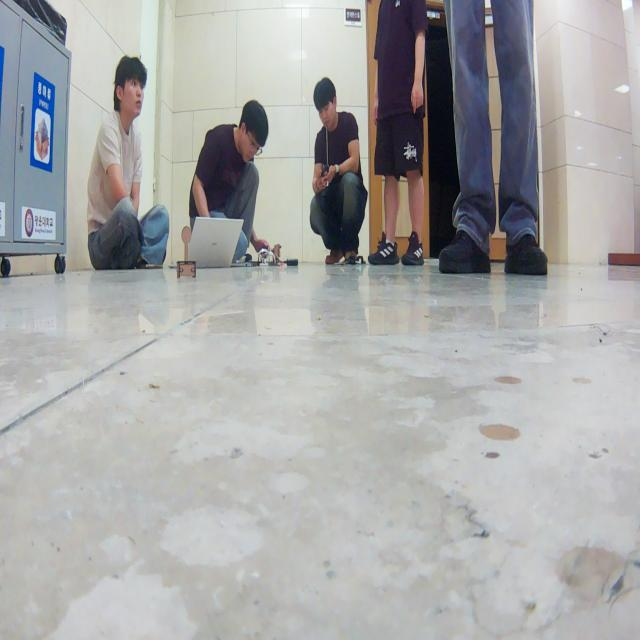target: (176, 225, 196, 279)
